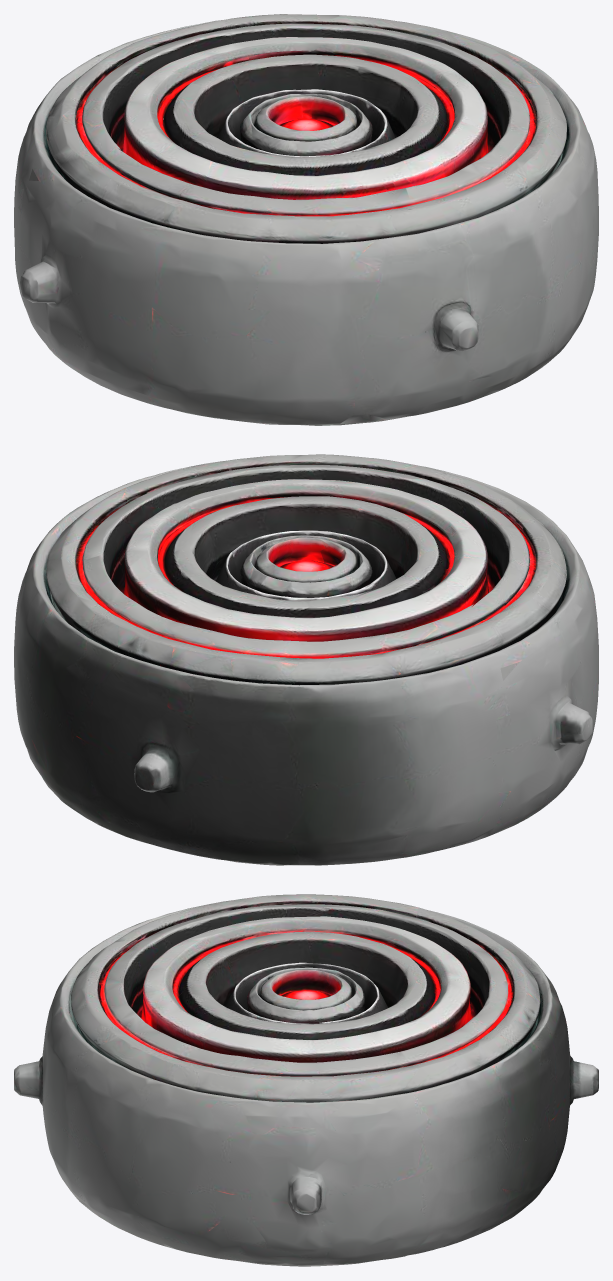
File: gravit.glb
3 views of the same model, one above another, from view 1: azimuth 30°, elevation 25°; view 2: azimuth 150°, elevation 25°; view 3: azimuth 270°, elevation 25° (orthographic). The views are drawn at different scales.
Parts seen in each view (by area): view 1: gravit; view 2: gravit; view 3: gravit.
Part boxes in pixels (left/top/right/bottom): gravit: left=14, top=14, right=598, bottom=425; gravit: left=14, top=454, right=598, bottom=865; gravit: left=14, top=894, right=598, bottom=1266.
Bounding box in the file's own units: 1.9 × 0.7272 × 1.9.
Materials: 1 (1 with a texture image).
